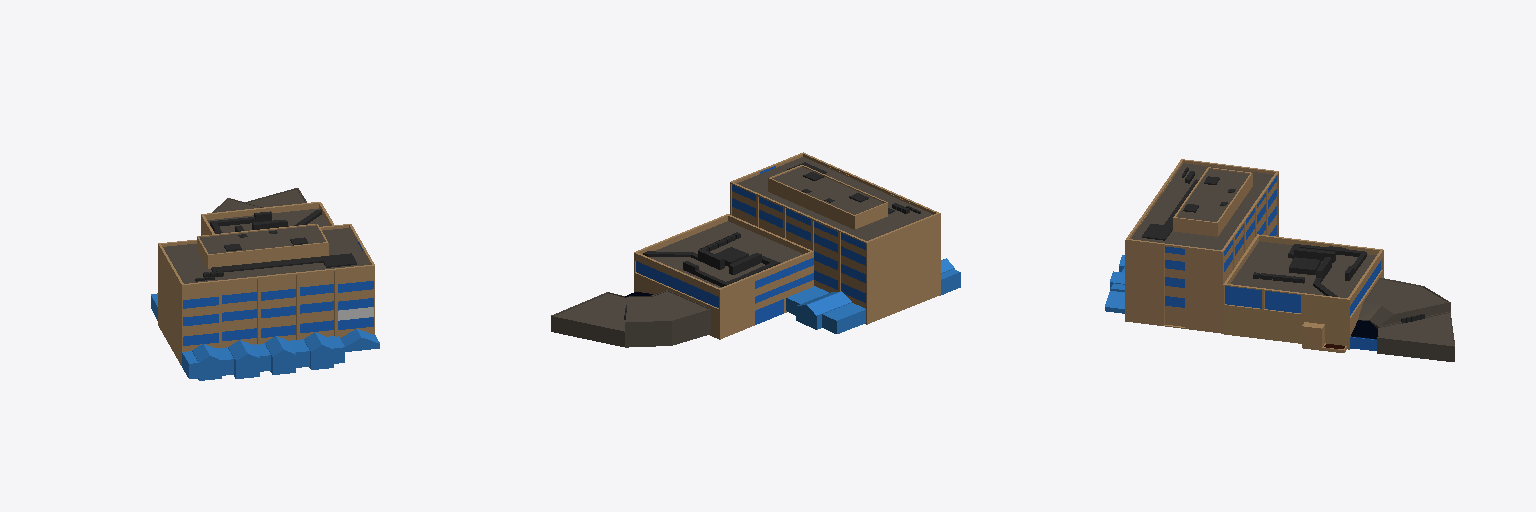
Rendered from poolehouse_model_published.obj.
The picture shows the model from 3 angles: view 1: azimuth 30°, elevation 25°; view 2: azimuth 150°, elevation 25°; view 3: azimuth 270°, elevation 25°; orthographic projection.
Parts seen in each view (by area): view 1: Cube, Cube.003, Cube.022, Cube.009, Cube.008; view 2: Cube, Cube.009, Cube.022, Cube.002, Cube.003; view 3: Cube, Cube.009, Cube.022, Cube.034.
Part boxes in pixels (x1,y1,x2,y2): Cube: (158, 202, 374, 365); Cube.003: (182, 332, 344, 380); Cube.022: (195, 209, 356, 281); Cube.009: (212, 188, 306, 212); Cube.008: (340, 329, 379, 351); Cube: (634, 152, 940, 339); Cube.009: (551, 290, 710, 347); Cube.022: (624, 162, 920, 319); Cube.002: (786, 286, 865, 333); Cube.003: (940, 258, 960, 295); Cube: (1125, 159, 1383, 352); Cube.009: (1358, 278, 1454, 361); Cube.022: (1142, 167, 1424, 323); Cube.034: (1350, 320, 1377, 350).
Bounding box in the file's own units: 97.72 × 34.5 × 114.